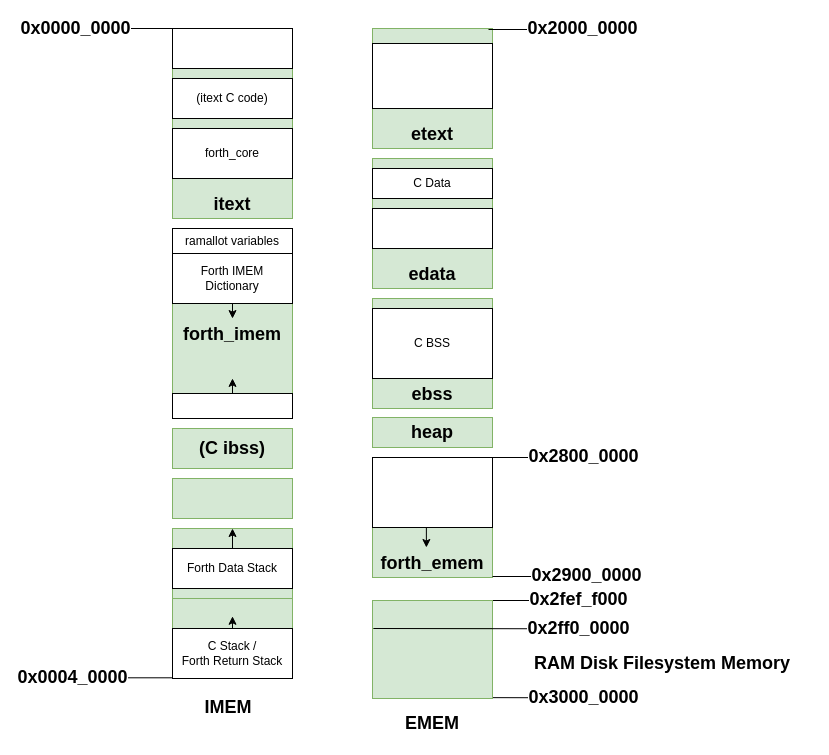
The diagram is 829 pixels wide and 755 high, and some of its shapes have lost their labels. Here are the shapes that lost their labels. From the top down, the centre of each, then its label:
At point 232,48: "vectors.S".
At point 432,75: "C Code".
At point 432,228: "boxkern_ forth_image".
At point 232,405: "Forth Core Variables".
At point 232,498: "(C idata)".
At point 432,492: "Forth EMEM Dictionary".
At point 432,615: "openocd".
At point 432,663: "fs_mem".
